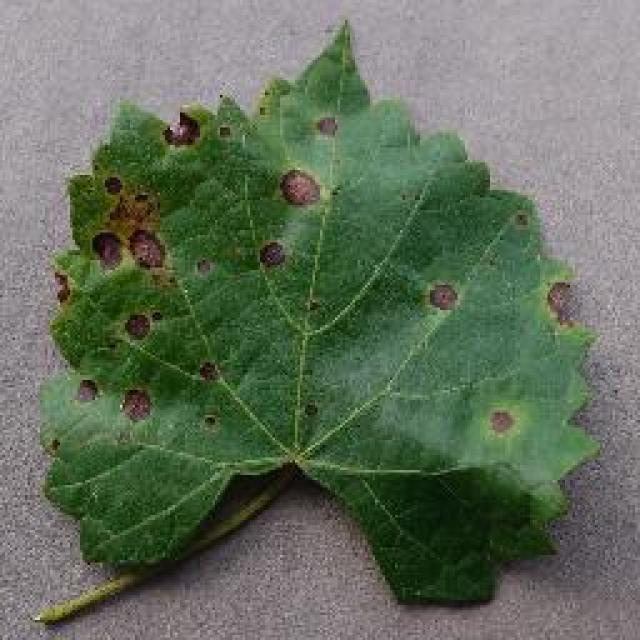Grape___Black_rot: (31, 13, 609, 611)
